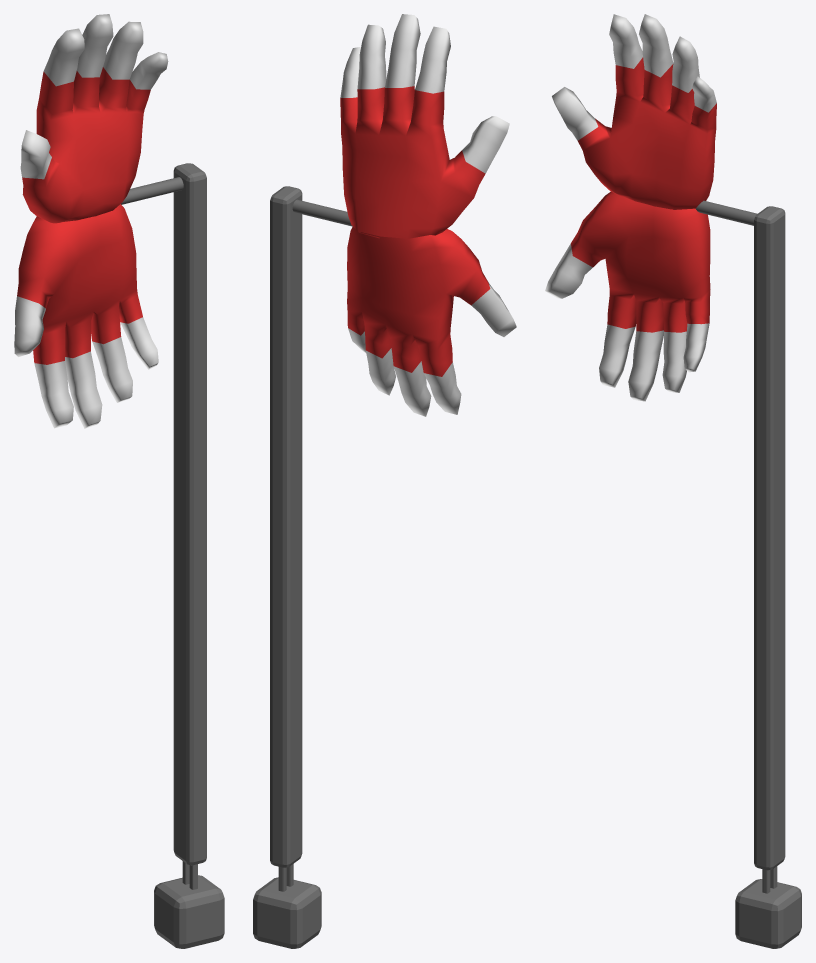
3 views of the same model, side by side, from view 1: azimuth 30°, elevation 25°; view 2: azimuth 150°, elevation 25°; view 3: azimuth 330°, elevation 25° (orthographic). The views are drawn at different scales.
Visible parts, largest first — view 1: AnatomyHandHumanMale:hand_basemesh1, pCube37; view 2: AnatomyHandHumanMale:hand_basemesh1, pCube37; view 3: AnatomyHandHumanMale:hand_basemesh1, pCube37.
Part boxes in pixels (left/top/right/bottom): AnatomyHandHumanMale:hand_basemesh1: left=14, top=14, right=168, bottom=428; pCube37: left=121, top=163, right=224, bottom=948; AnatomyHandHumanMale:hand_basemesh1: left=340, top=14, right=516, bottom=416; pCube37: left=253, top=186, right=352, bottom=948; AnatomyHandHumanMale:hand_basemesh1: left=545, top=14, right=716, bottom=401; pCube37: left=695, top=200, right=801, bottom=948.
Bounding box in the file's own units: 2.87 × 11.45 × 1.07.
